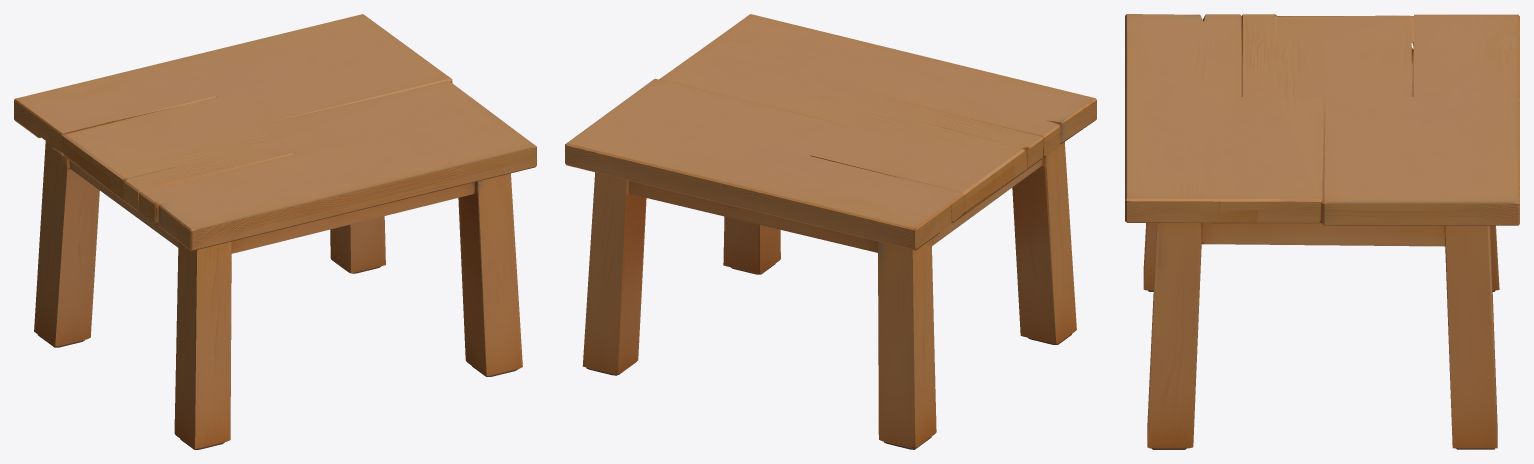
Rendered from table.fbx.
3 renders of one model, left to right at view 1: azimuth 30°, elevation 25°; view 2: azimuth 150°, elevation 25°; view 3: azimuth 270°, elevation 25°, orthographic. The views are drawn at different scales.
Parts seen in each view (by area): view 1: material; view 2: material; view 3: material.
Boxes of the visible parts, x1,y1,x2,y2 form: material: (14, 14, 536, 449); material: (565, 14, 1096, 449); material: (1125, 14, 1519, 449).
Bounding box in the file's own units: 190 × 119 × 168.
